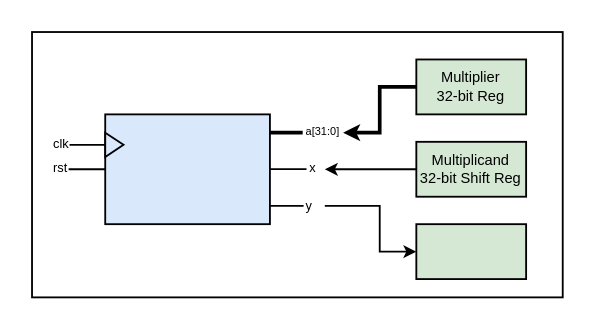
Some shapes in this 595 by 329 pixel diagram are drawn without their labels. Here are the shapes that lost their labels. From the top down, the centre of each, then its label:
At pixel 186 168: "SPM".
At pixel 470 250: "Product 64-bit Shift Reg".
